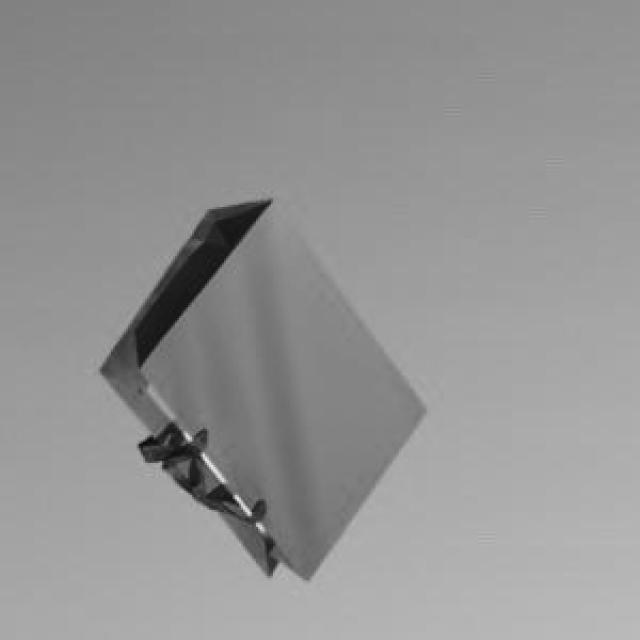paper: (96, 196, 422, 576)
